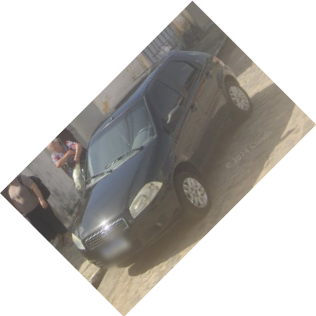car: (71, 49, 256, 264)
